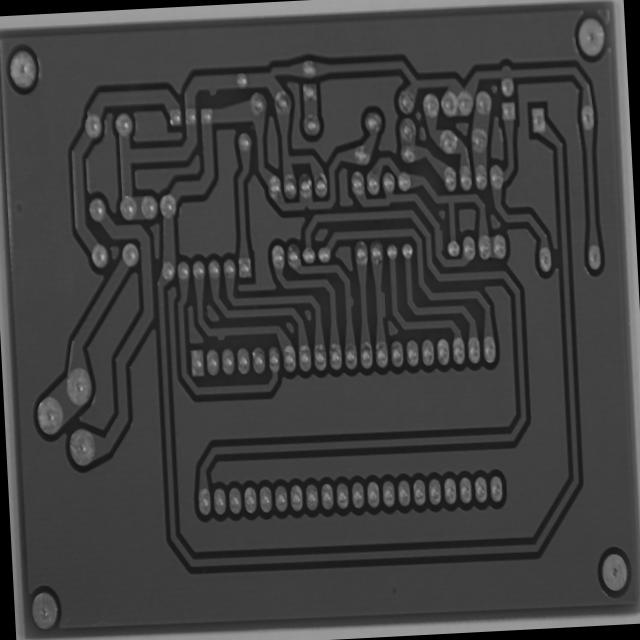spur: (432, 223, 448, 256), (202, 74, 222, 100), (376, 287, 390, 322), (212, 325, 230, 345), (342, 290, 356, 312)
